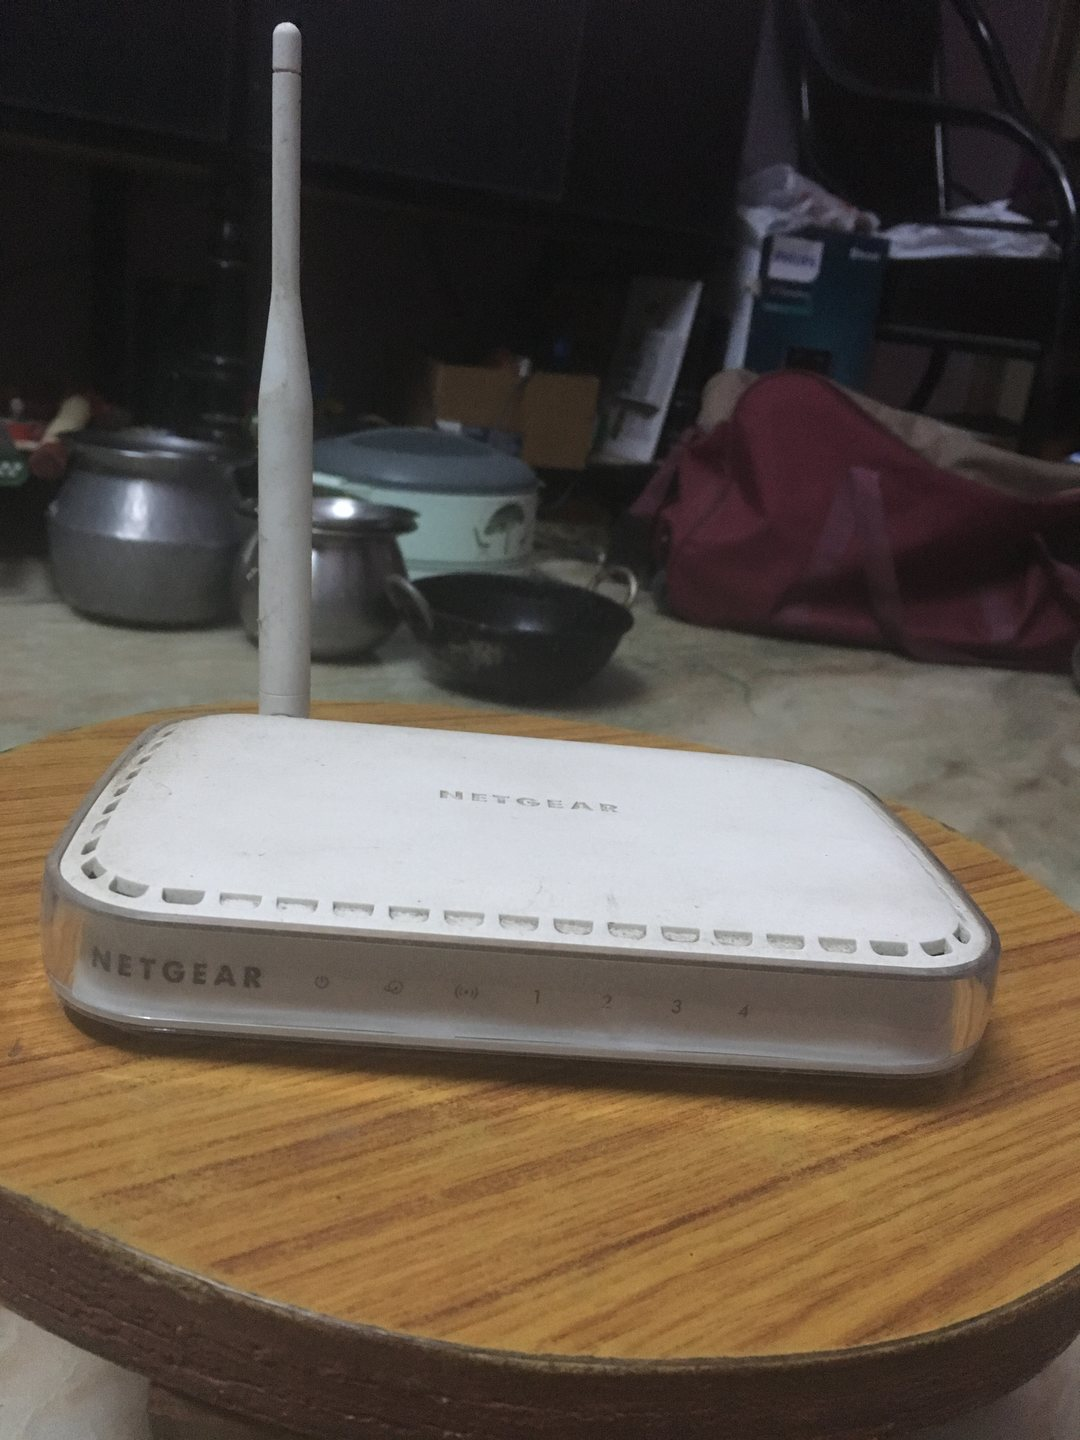NETGEAR: (81, 934, 272, 998)
modem: (31, 867, 1016, 1083)
